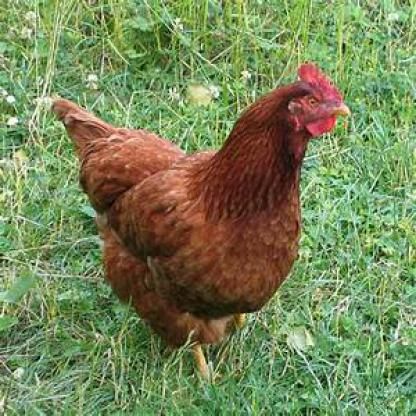chicken: (53, 63, 351, 372)
